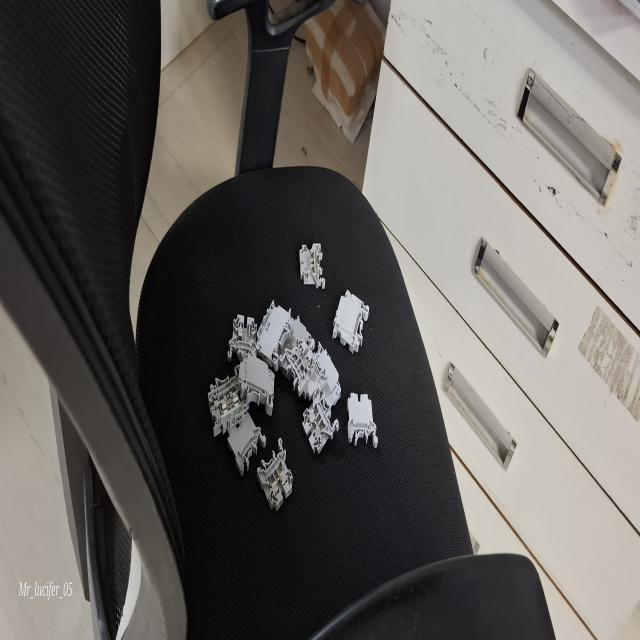Inverted: (342, 389, 380, 449)
Pass: (298, 377, 340, 475), (256, 433, 293, 513), (275, 328, 317, 397)
Reject: (228, 314, 258, 358), (299, 243, 326, 290)
